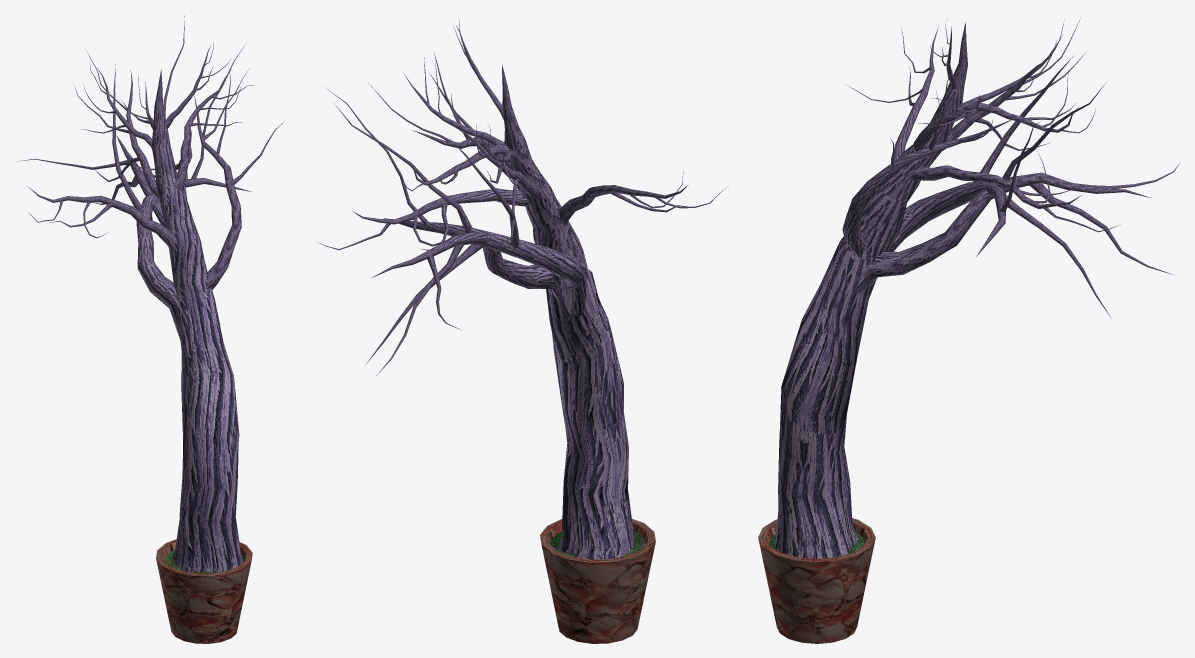
File: Tree1.FBX
3 views of the same model, side by side, from view 1: azimuth 30°, elevation 25°; view 2: azimuth 150°, elevation 25°; view 3: azimuth 270°, elevation 25° (orthographic). The views are drawn at different scales.
Visible parts, largest first — view 1: Cylinder001; view 2: Cylinder001; view 3: Cylinder001.
Boxes of the visible parts, box(x1,y1,x2,y2) form: Cylinder001: box(16, 15, 284, 643); Cylinder001: box(316, 17, 726, 643); Cylinder001: box(758, 18, 1180, 643).
Bounding box in the file's own units: 210 × 381 × 226.
Materials: 3 (3 with a texture image).
